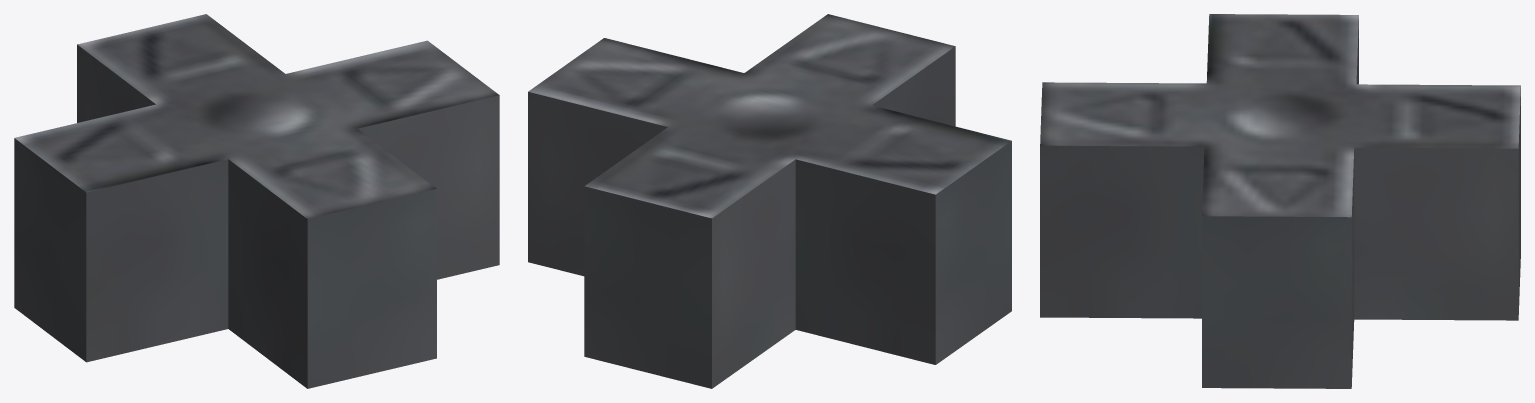
File: msh_manette_005.fbx
3 renders of one model, left to right at view 1: azimuth 30°, elevation 25°; view 2: azimuth 150°, elevation 25°; view 3: azimuth 270°, elevation 25°, orthographic.
Visible parts, largest first — view 1: msh_manette_005; view 2: msh_manette_005; view 3: msh_manette_005.
Boxes of the visible parts, left/top/right/bottom form: msh_manette_005: left=14, top=14, right=499, bottom=388; msh_manette_005: left=528, top=14, right=1011, bottom=388; msh_manette_005: left=1040, top=14, right=1520, bottom=388.
Bounding box in the file's own units: 25.66 × 10.12 × 25.66.
